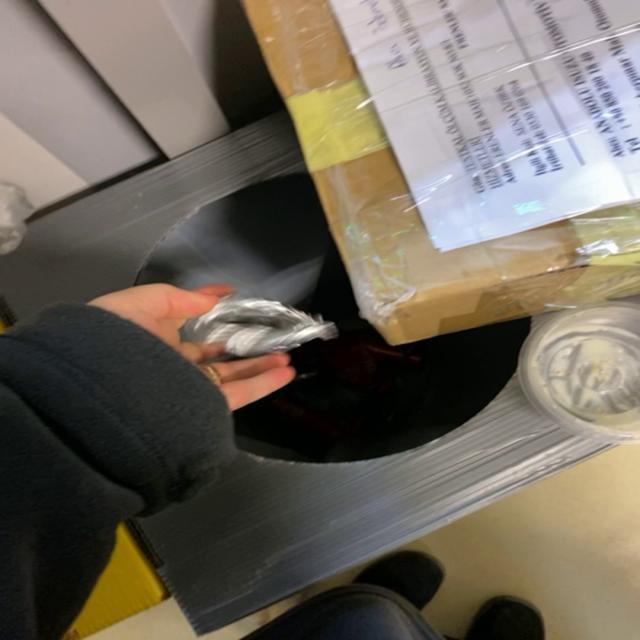Bin: (0, 111, 610, 634)
Metal: (179, 296, 337, 358)
